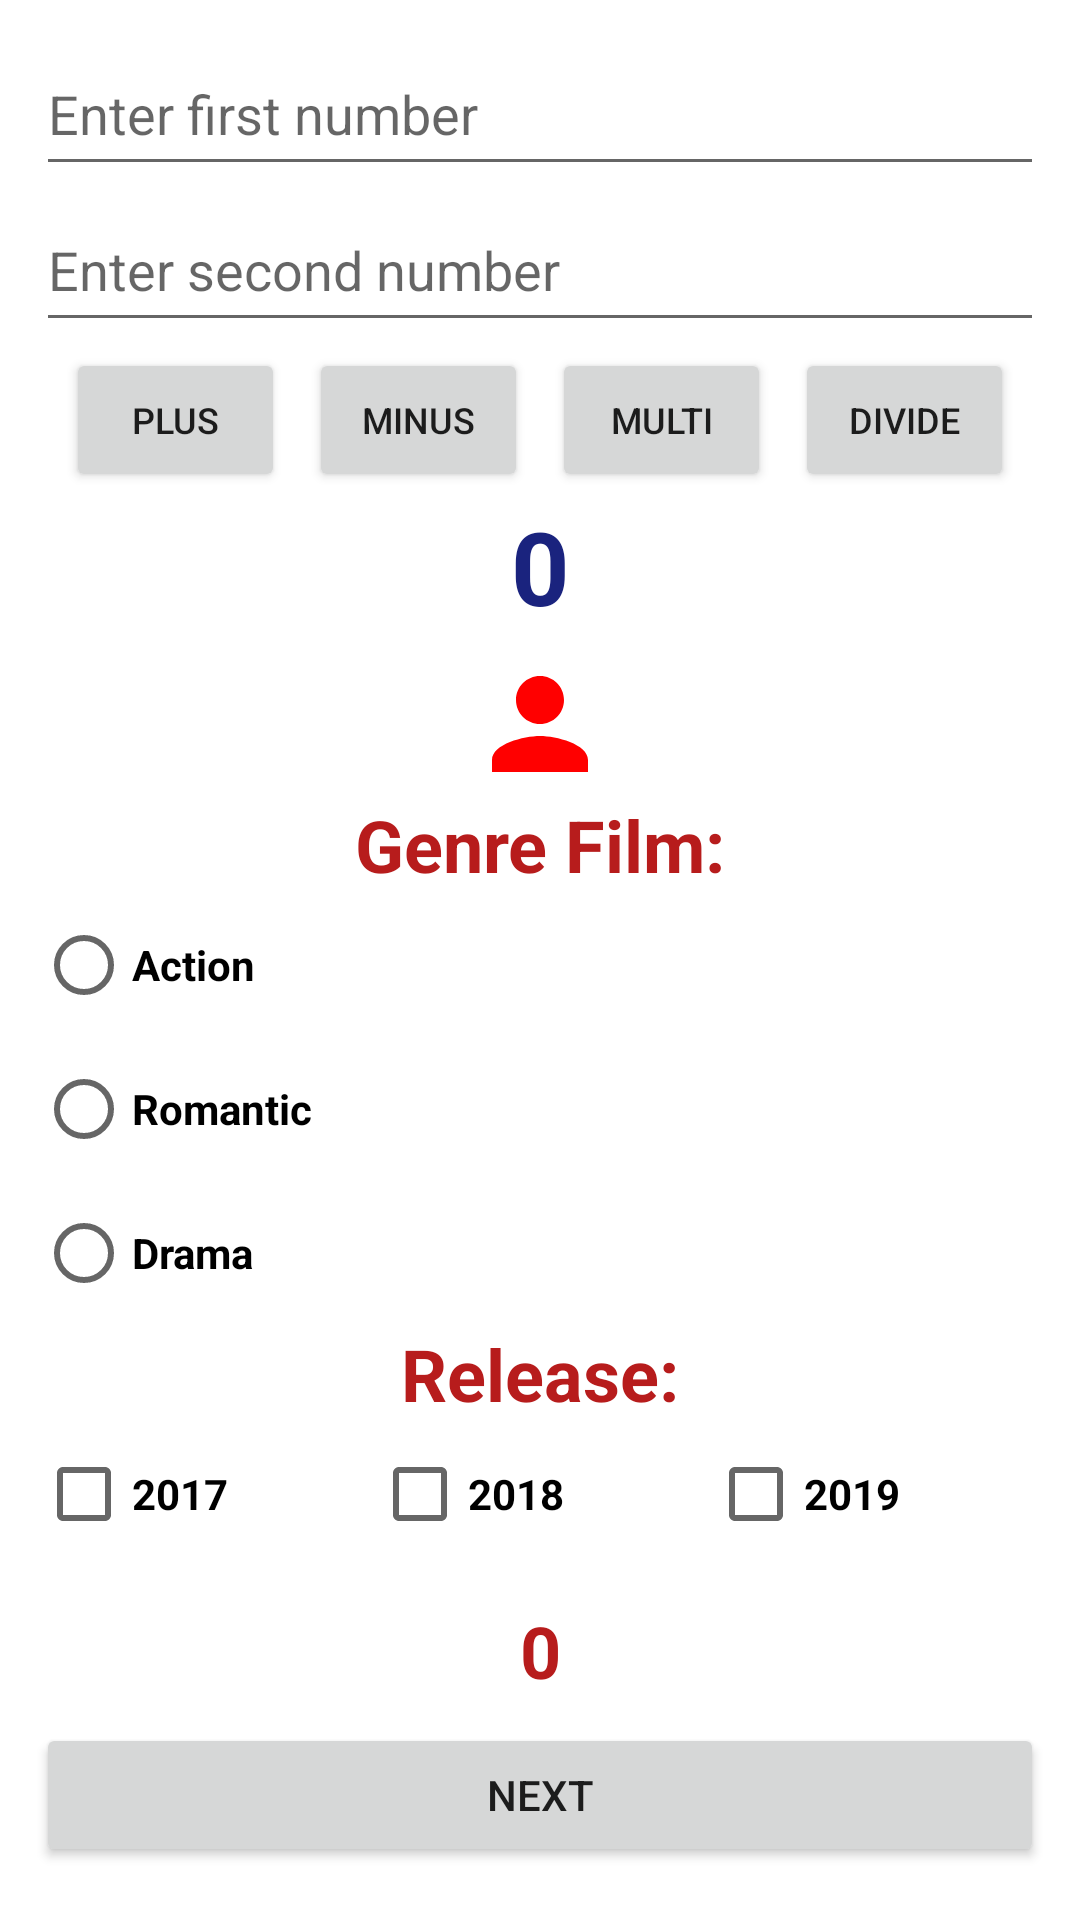

Named icons in this screenshot (1080*1920) and their bounding boxes, {"x1": x1, "y1": y1, "x2": x2, "y2": y2}:
person: {"x1": 492, "y1": 676, "x2": 588, "y2": 772}
